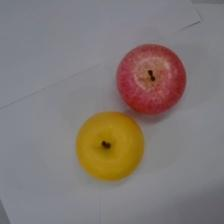red: (115, 43, 187, 115)
yellow: (75, 110, 144, 182)
